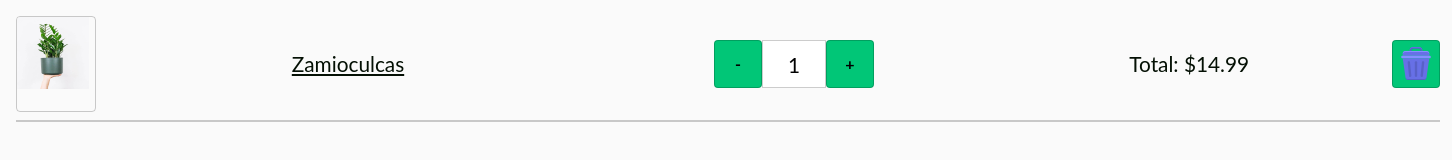
test the Product component › decrements product's quantity in the basket correctly
Click the button "-".
click(738, 64)  # box [714,40,762,88]
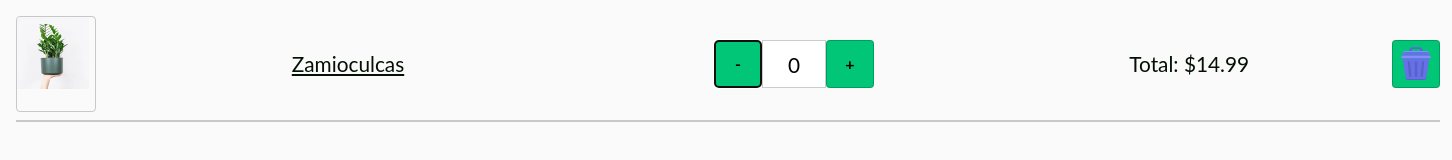
Now the number field holds "0", box [762,40,826,88]
